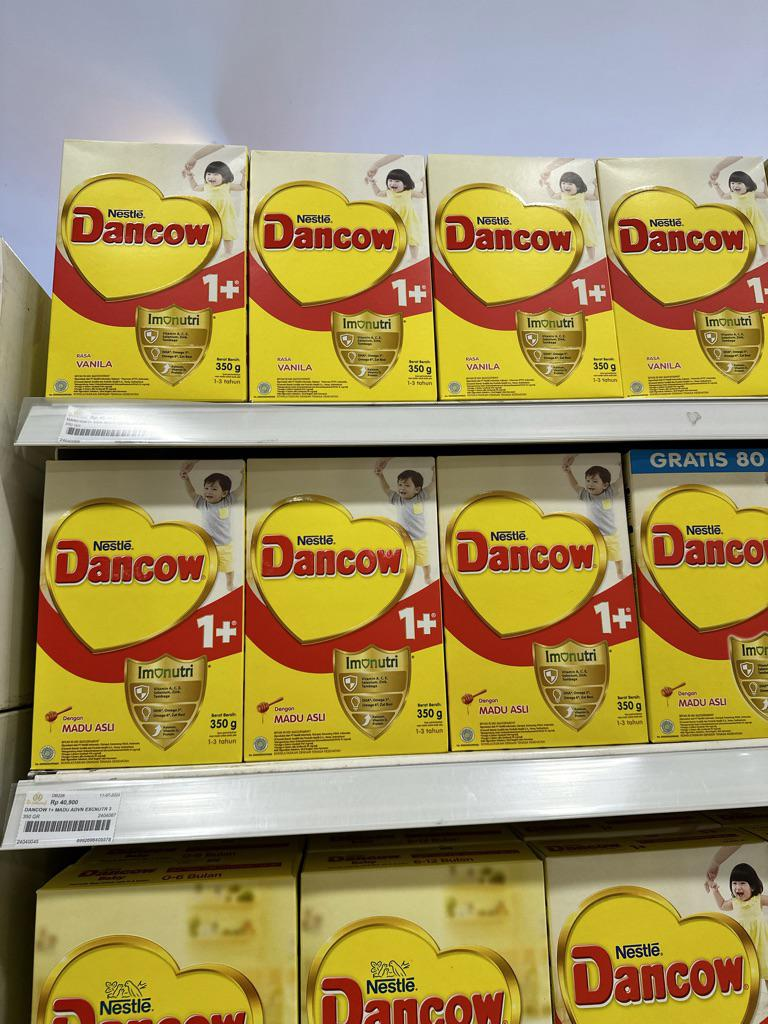DANCOW 1+ Madu Advn ExcNutr 24x400g N1 ID_REDESIGN3: (34, 457, 247, 768), (441, 452, 649, 750), (243, 455, 448, 756)
DANCOW 1+ Van Advn ExcNutr 24x400g ID_REDESIGN3: (51, 137, 251, 399), (249, 148, 439, 399), (432, 151, 618, 398), (607, 157, 767, 398)
